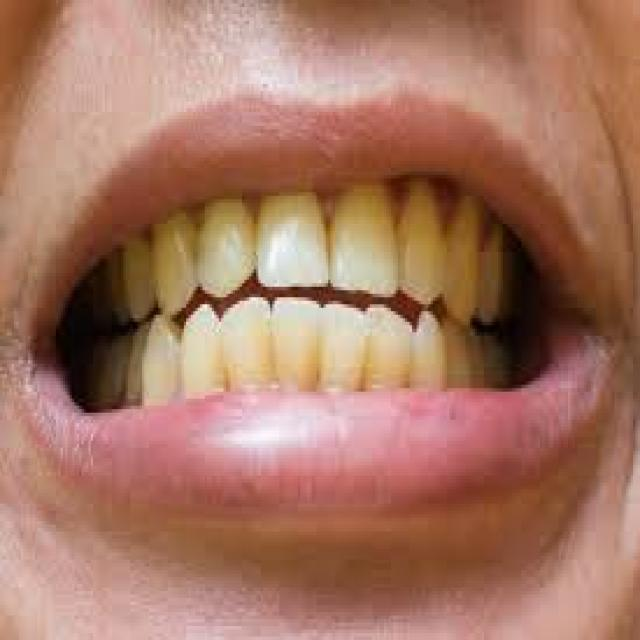tooth: (260, 199, 326, 287), (338, 196, 396, 294), (200, 213, 251, 287), (272, 304, 321, 378), (405, 196, 444, 287), (224, 308, 268, 388), (158, 224, 196, 308), (326, 314, 368, 384), (372, 311, 410, 388), (452, 199, 477, 315), (144, 332, 182, 406), (186, 322, 219, 395), (414, 314, 442, 392), (93, 342, 126, 406), (466, 325, 486, 388), (93, 273, 112, 332), (133, 252, 151, 311), (447, 322, 463, 384), (489, 238, 500, 318), (507, 248, 519, 315), (489, 339, 505, 385), (130, 336, 142, 392), (116, 287, 128, 325)
